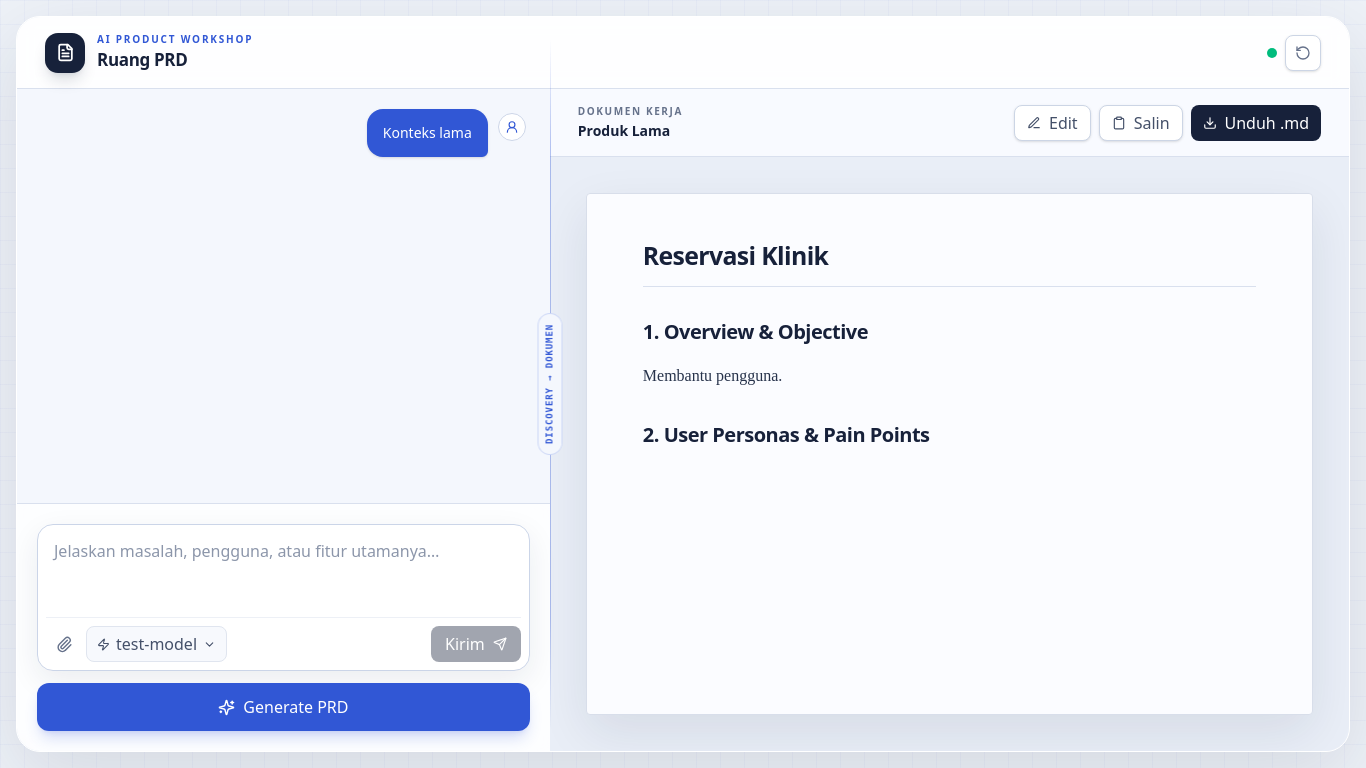
it: Ruang PRD › menghapus workspace dan membuat sesi baru setelah reset dikonfirmasi
Expected: the heading "Produk Lama" is shown, [578,121,683,141]
Click the button named "Mulai percakapan baru": {"x": 1303, "y": 52} [1285,34,1321,70]
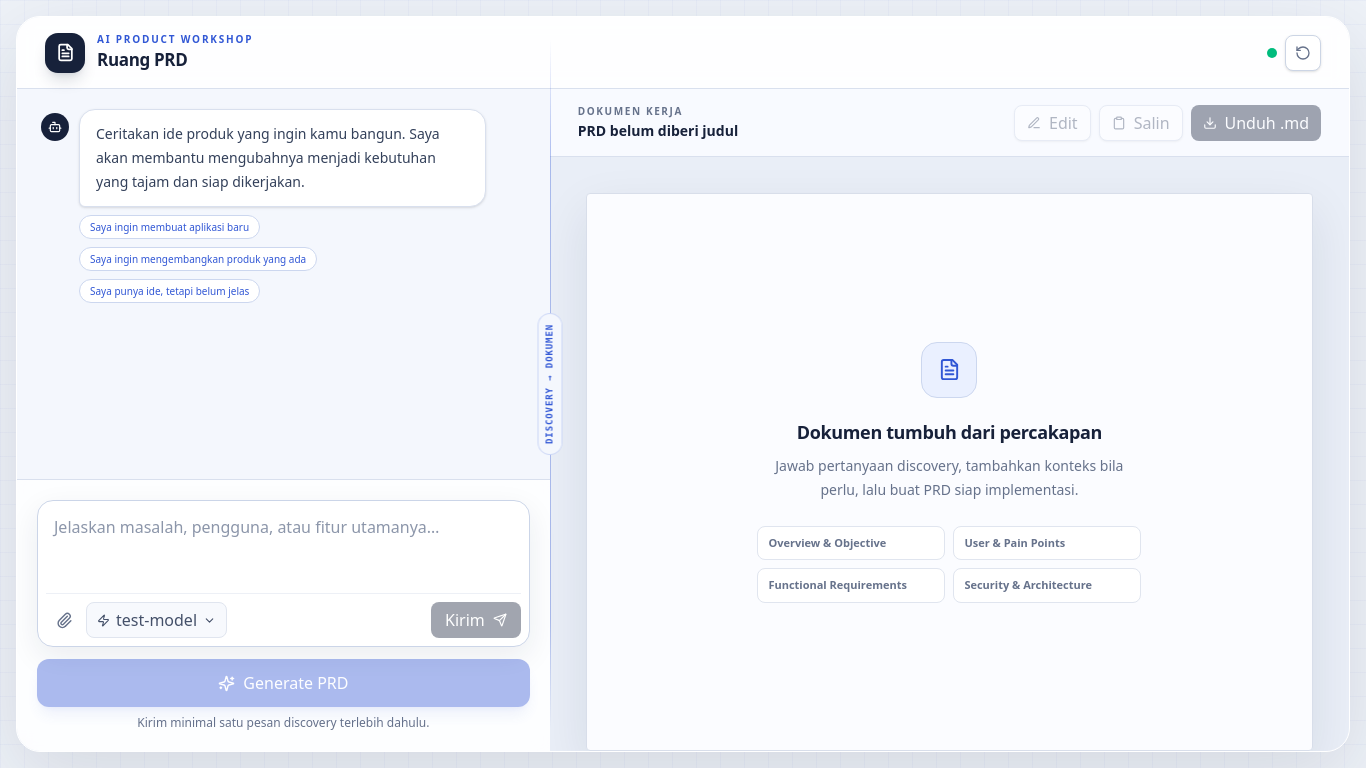
Expected: the text "Konteks lama" is gone
Expected: the heading "PRD belum diberi judul" is shown, [578,121,738,141]
